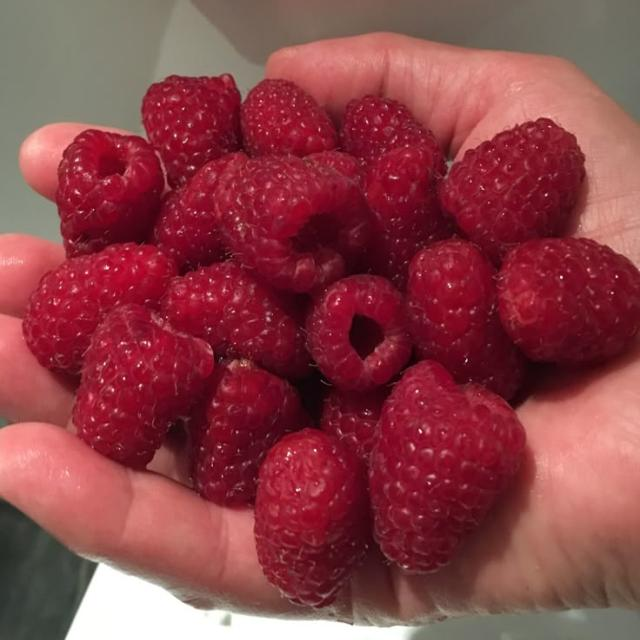raspberry: (369, 361, 525, 572), (73, 304, 213, 469), (217, 156, 370, 292), (441, 119, 585, 263), (255, 429, 370, 607), (23, 243, 177, 374), (406, 239, 524, 399), (161, 260, 311, 378), (498, 238, 639, 363), (188, 361, 310, 505), (55, 129, 164, 256), (363, 144, 454, 290), (307, 275, 412, 390), (151, 152, 246, 271), (142, 74, 240, 187), (340, 96, 446, 176), (241, 80, 338, 156), (320, 388, 388, 462), (306, 150, 364, 185)
